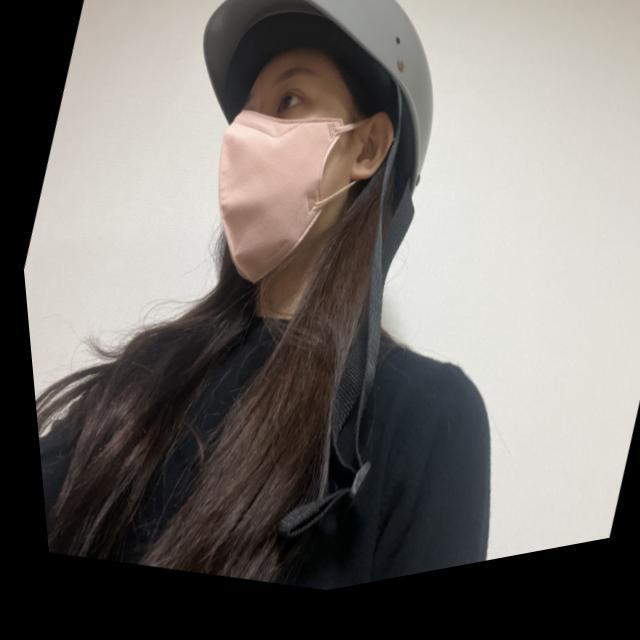Helmet: (178, 0, 444, 307)
